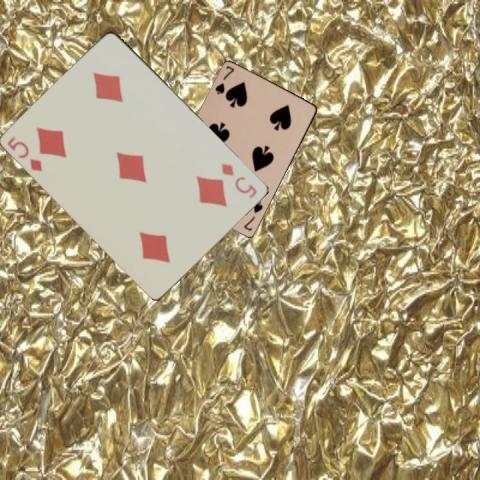5d: (218, 160, 259, 200), (5, 133, 44, 174)
7s: (240, 198, 264, 232), (212, 63, 235, 96)
